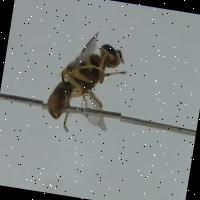Oriental-fruit-fly: (36, 8, 136, 157)
